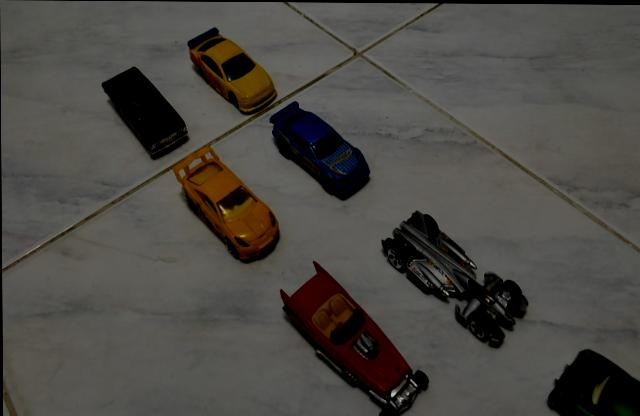01_FORD: (100, 65, 190, 158)
02_OZSOME: (187, 27, 278, 115)
03_V8: (276, 263, 429, 416)
04_MERZEDES: (268, 102, 371, 202)
05_DC121: (379, 211, 530, 349)
06_MASERATI: (545, 349, 640, 416)
07_RHLTURBO: (171, 145, 281, 265)
